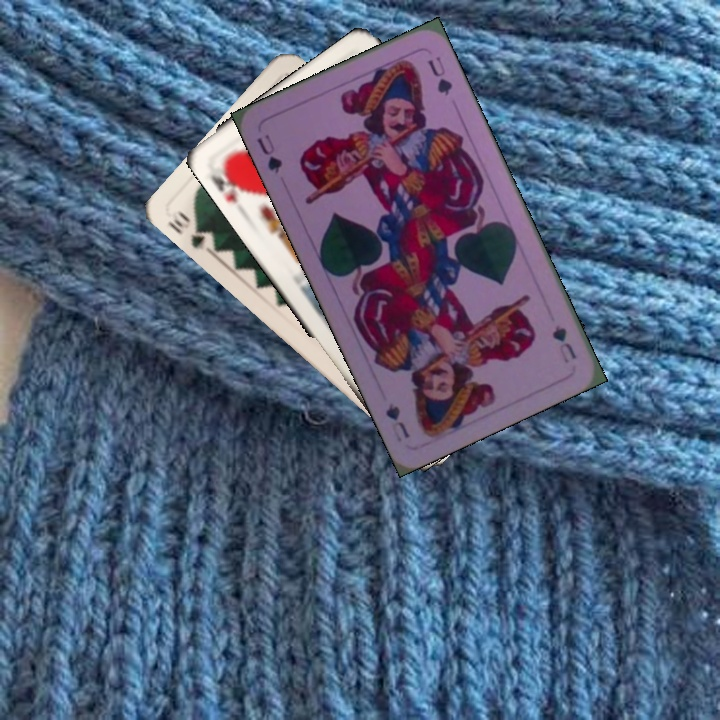G10: (163, 206, 213, 254)
GU: (252, 130, 285, 177), (548, 321, 579, 366)
HK: (206, 155, 251, 206)
